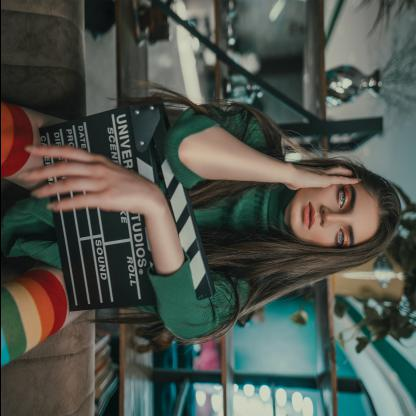Eye: (334, 186, 349, 212), (334, 225, 348, 250)
Mouth: (300, 198, 316, 232)
Nose: (318, 207, 344, 230)
